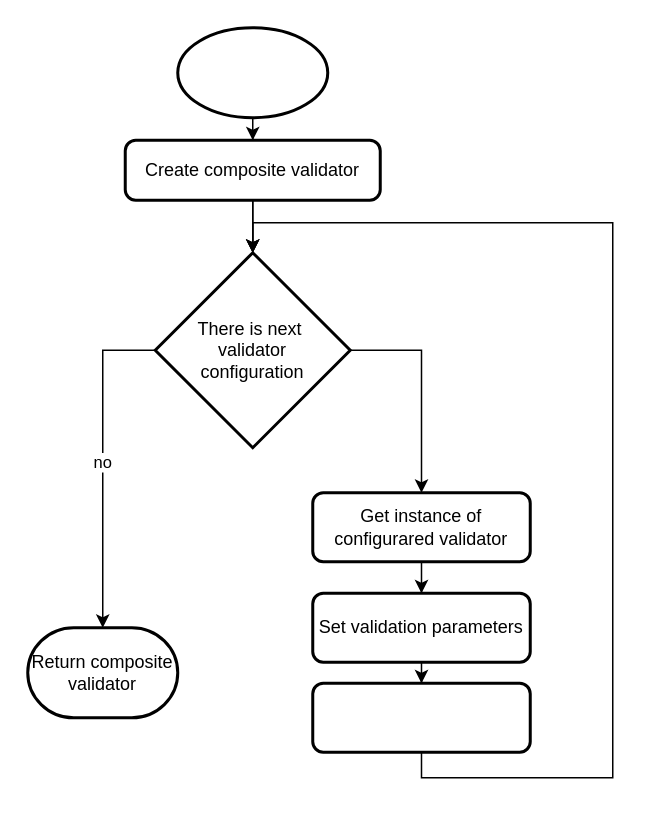
Some shapes in this 651 by 816 pixel diagram are drawn without their labels. Each missing label, with the centre of its shape:
Add validator to composite validator: pixel 420 717
Start: pixel 252 72
